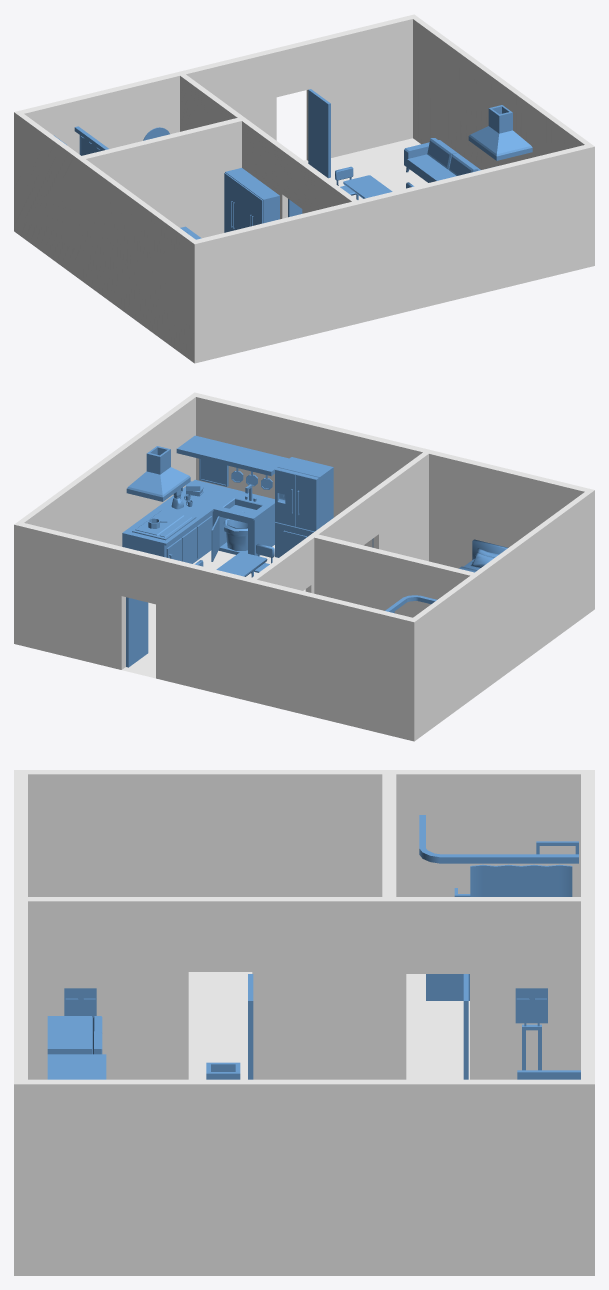
Rendered from room2.glb.
3 views of the same model, one above another, from view 1: azimuth 30°, elevation 25°; view 2: azimuth 150°, elevation 25°; view 3: azimuth 270°, elevation 25° (orthographic). The views are drawn at different scales.
Visible parts, largest first — view 1: ROOM FINISHED 2; view 2: ROOM FINISHED 2; view 3: ROOM FINISHED 2.
Boxes of the visible parts, bbox=[...] form: ROOM FINISHED 2: bbox=[14, 14, 594, 363]; ROOM FINISHED 2: bbox=[14, 392, 594, 741]; ROOM FINISHED 2: bbox=[14, 770, 594, 1275].
Bounding box in the file's own units: 8.77 × 2.52 × 6.86.
